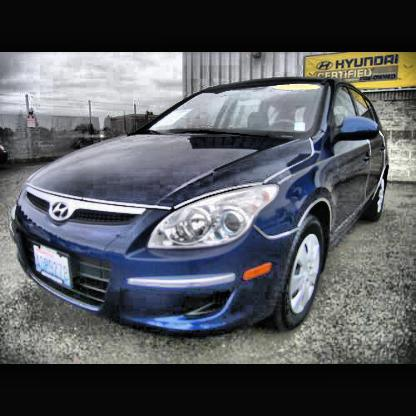Hyundai Elantra Touring Hatchback 2012: (11, 79, 392, 344)
